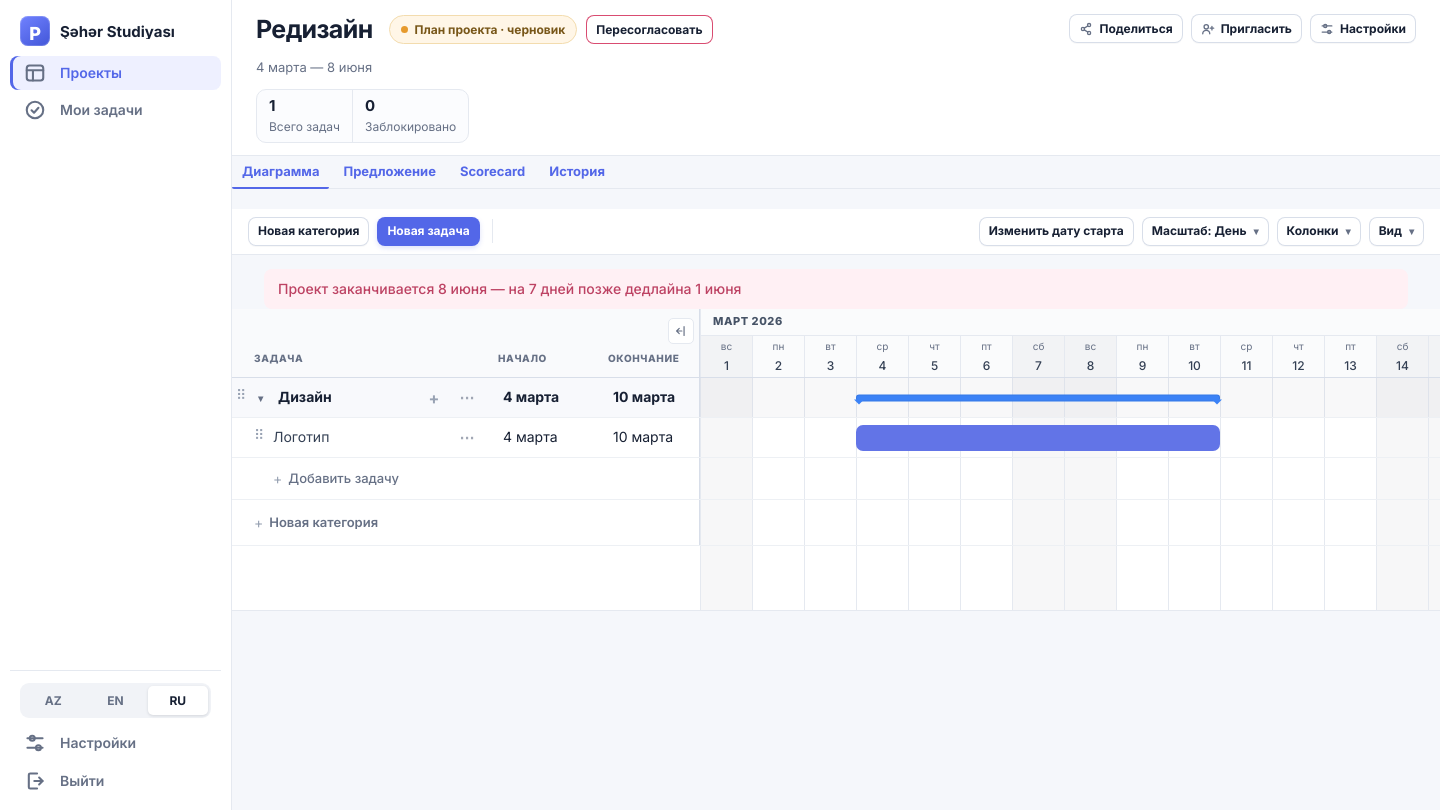
Test: создание категории › предлагает цвет из готовой палитры, но оставляет выбор человеку
Click the button "Новая категория" at {"x": 309, "y": 231}, box [248,217,369,246]
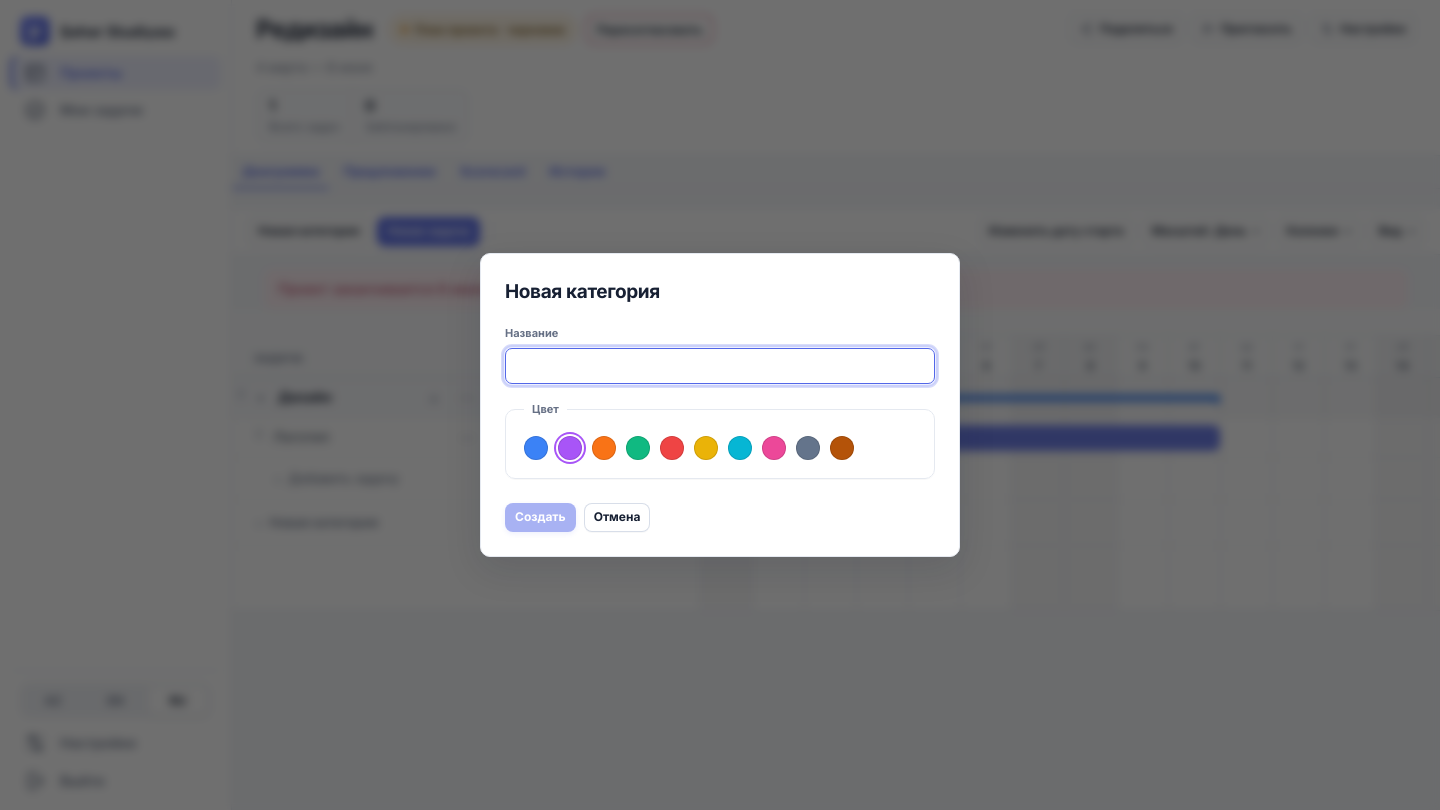
Expected: the number of radio buttons is 10
Expected: the radio button named "Фиолетовый" holds "#a855f7", [558,436,582,460]
Expected: the radio button named "Фиолетовый" does not hold "#3b82f6", [558,436,582,460]
